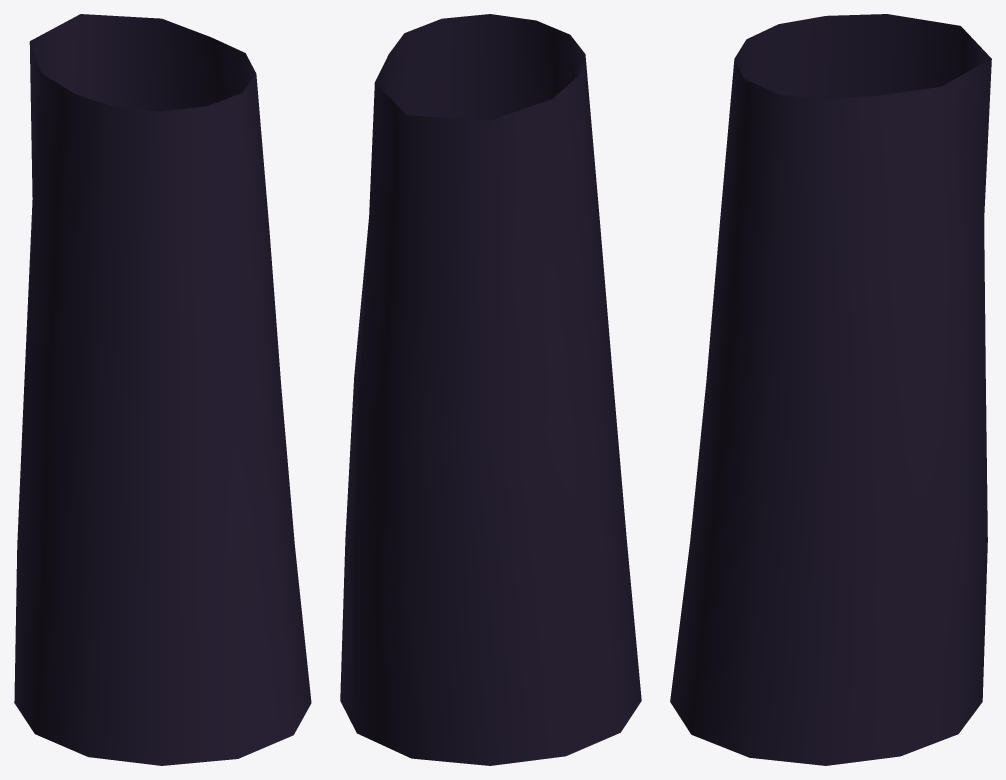
File: witch_costume_greave.L.glb
3 views of the same model, side by side, from view 1: azimuth 30°, elevation 25°; view 2: azimuth 150°, elevation 25°; view 3: azimuth 270°, elevation 25° (orthographic). The views are drawn at different scales.
Visible parts, largest first — view 1: witch_costume_greave.L; view 2: witch_costume_greave.L; view 3: witch_costume_greave.L.
Part boxes in pixels (x1=…): witch_costume_greave.L: x1=14, y1=14, x2=311, y2=765; witch_costume_greave.L: x1=340, y1=14, x2=641, y2=765; witch_costume_greave.L: x1=670, y1=14, x2=991, y2=765.
Size of the model in its own units: 0.1601 by 0.3767 by 0.1708.
